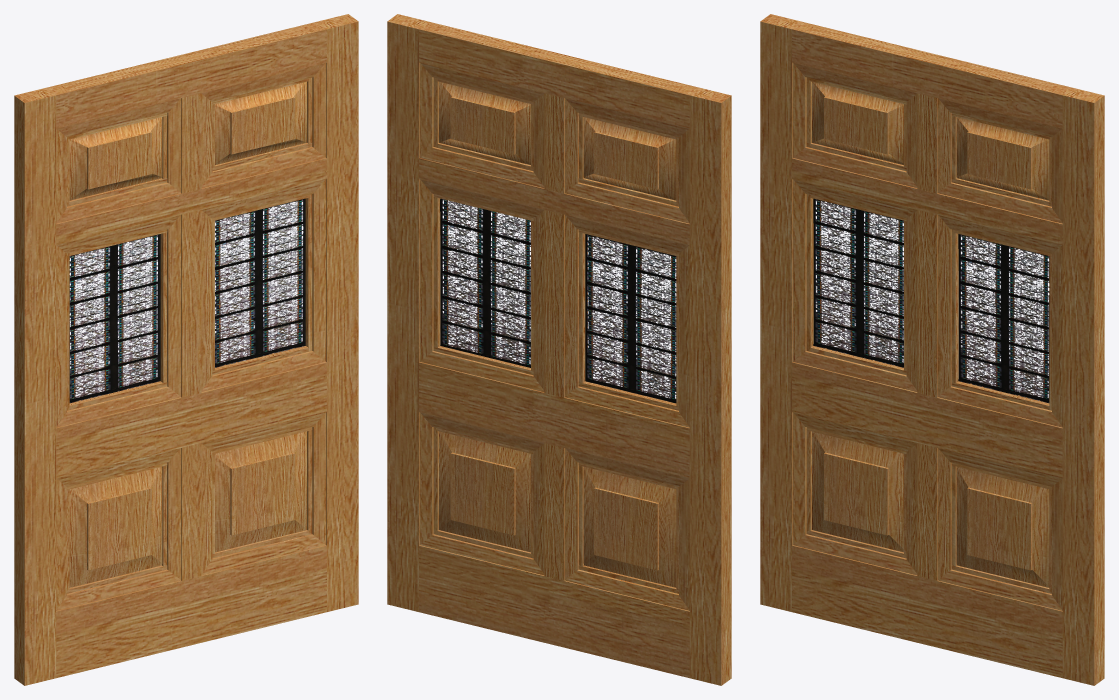
Rendered from 6PanelDoor03.fbx.
3 views of the same model, side by side, from view 1: azimuth 30°, elevation 25°; view 2: azimuth 150°, elevation 25°; view 3: azimuth 330°, elevation 25° (orthographic).
Parts seen in each view (by area): view 1: default; view 2: default; view 3: default.
Boxes of the visible parts, x1=… form: default: x1=14, y1=14, x2=358, y2=685; default: x1=387, y1=14, x2=731, y2=685; default: x1=760, y1=14, x2=1104, y2=685.
Bounding box in the file's own units: 129 × 215 × 6.93.
